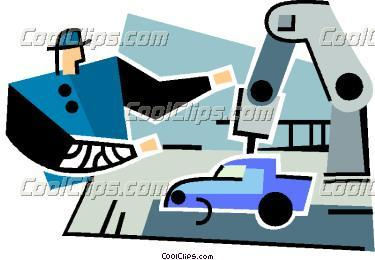car: (160, 153, 314, 231)
person: (4, 25, 240, 193)
